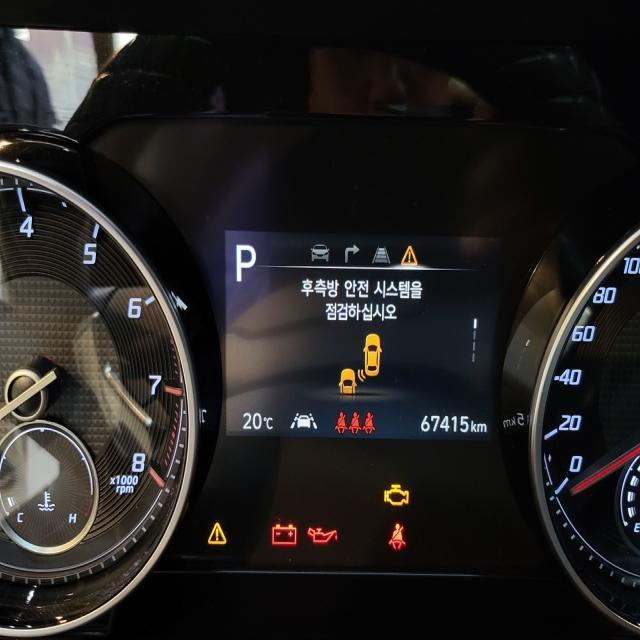Central Warning lamp: (207, 520, 227, 544)
LaneCenteringOff: (289, 410, 317, 430)
